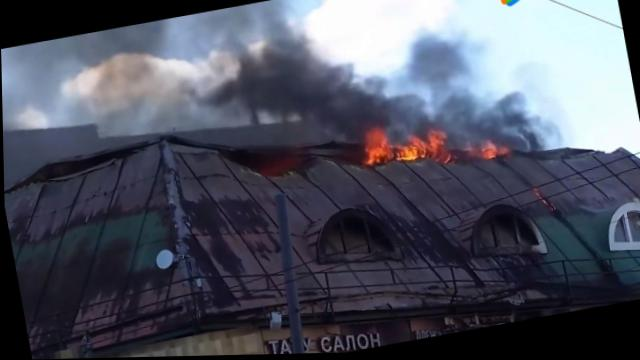fire: (359, 127, 389, 165), (418, 131, 443, 161), (396, 140, 423, 162), (479, 143, 495, 164)
